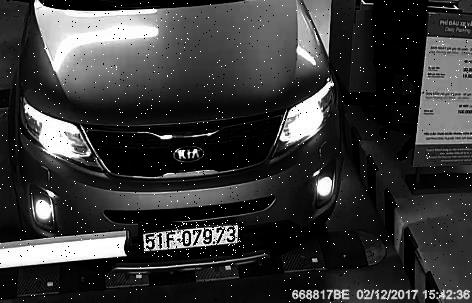License-plate: (140, 224, 246, 259)
